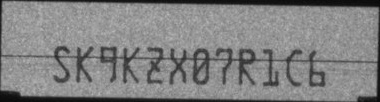0: (191, 48, 209, 85)
1: (261, 47, 280, 87)
6: (307, 50, 326, 86)
7: (215, 47, 234, 85)
9: (99, 45, 116, 83)
C: (285, 48, 302, 86)
K: (75, 44, 94, 83), (122, 47, 140, 84)
R: (237, 48, 256, 86)
S: (53, 45, 72, 84)
X: (168, 46, 187, 85)
Z: (145, 45, 163, 84)
